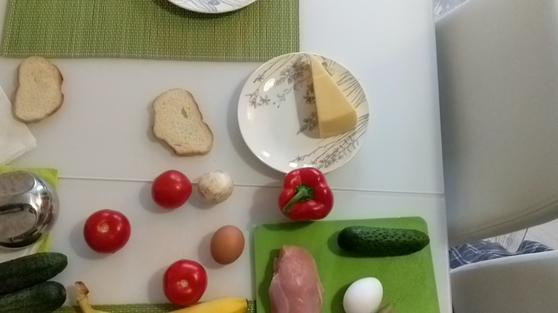banana: (75, 281, 253, 313)
champignon: (199, 167, 232, 202)
cheese: (310, 58, 356, 137)
chicken_fillet: (265, 244, 327, 313)
cucumber: (331, 220, 429, 256), (3, 249, 67, 288), (3, 277, 67, 313)
egg: (342, 277, 387, 313), (213, 227, 246, 262)
pepper: (281, 166, 334, 222)
tomato: (84, 206, 132, 256), (165, 258, 209, 306), (150, 167, 193, 209)
white_bread: (146, 87, 211, 156), (13, 52, 67, 126)
